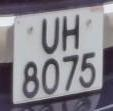0: (40, 54, 63, 99)
5: (79, 49, 98, 93)
7: (61, 52, 81, 96)
8: (20, 55, 41, 103)
H: (61, 10, 85, 56)
U: (39, 13, 64, 59)
